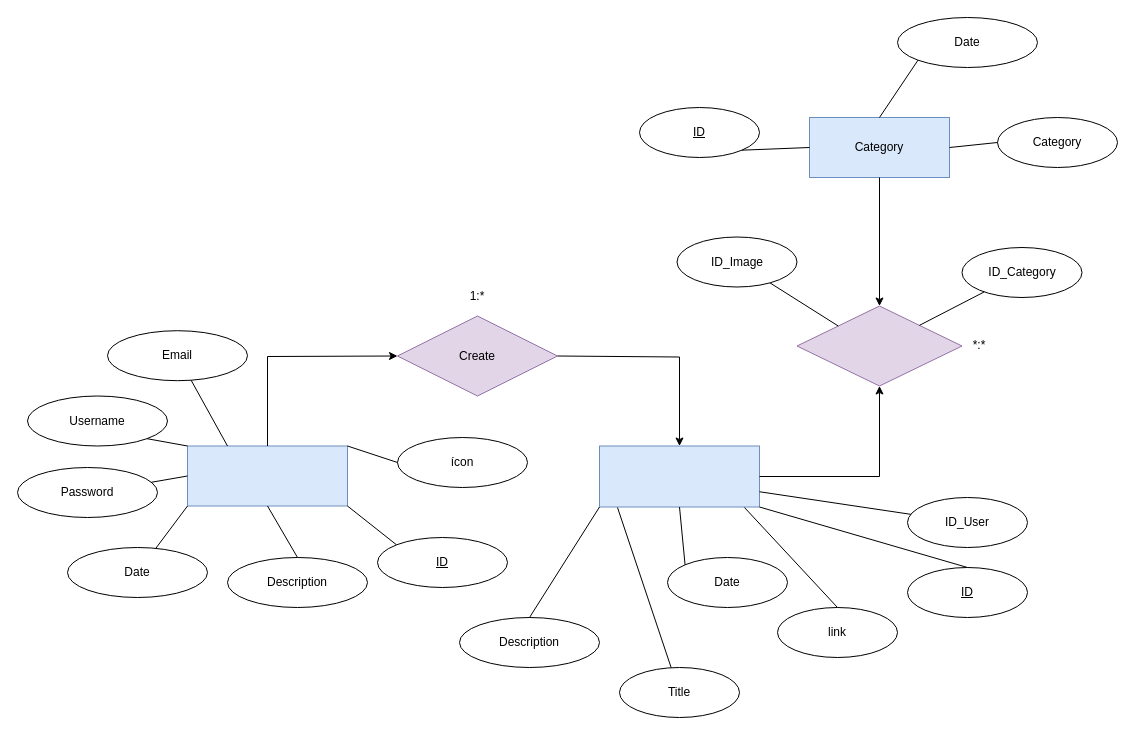
This 1135x735 diagram has some shape labels left out. The shapes that lost their labels are listed below. From the top down, each one's box as (x1, y1, x2, y2) in pixels, then its label:
(796, 305, 962, 386): Belongs
(186, 445, 348, 506): User
(598, 445, 760, 507): Image
